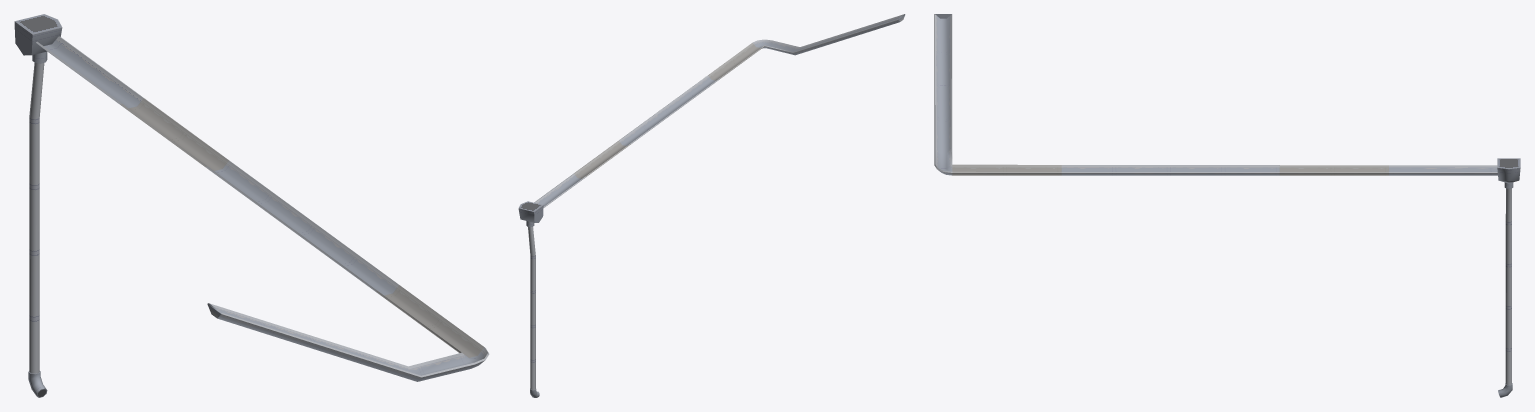
The model's file is kd_stage_135d18_4_7.glb.
3 views of the same model, side by side, from view 1: azimuth 30°, elevation 25°; view 2: azimuth 150°, elevation 25°; view 3: azimuth 270°, elevation 25° (orthographic). The views are drawn at different scales.
Visible parts, largest first — view 1: kd_stage_135d18_4_7; view 2: kd_stage_135d18_4_7; view 3: kd_stage_135d18_4_7.
Part boxes in pixels (x1=…): kd_stage_135d18_4_7: x1=14, y1=14, x2=489, y2=397; kd_stage_135d18_4_7: x1=518, y1=14, x2=905, y2=397; kd_stage_135d18_4_7: x1=934, y1=14, x2=1520, y2=397.
Size of the model in its own units: 1.62 by 2.55 by 4.49.
1 material, 1 textured.
